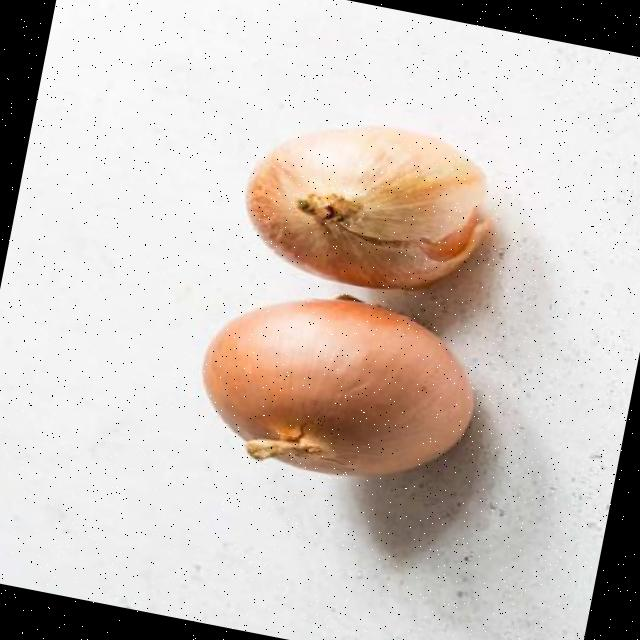Onion: (203, 293, 475, 475), (247, 125, 489, 287)
